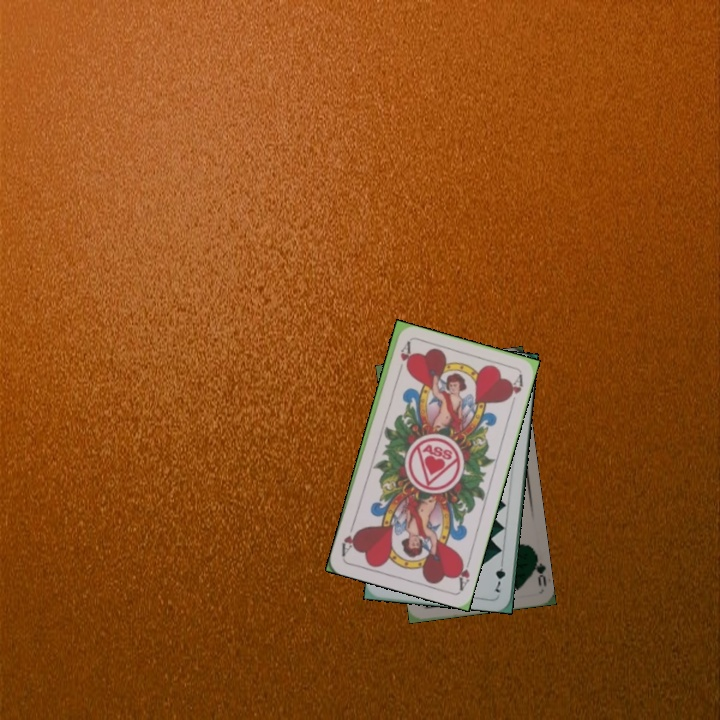G7: (491, 555, 508, 595)
GO: (528, 549, 549, 589)
HA: (452, 552, 474, 592), (393, 338, 413, 378)
